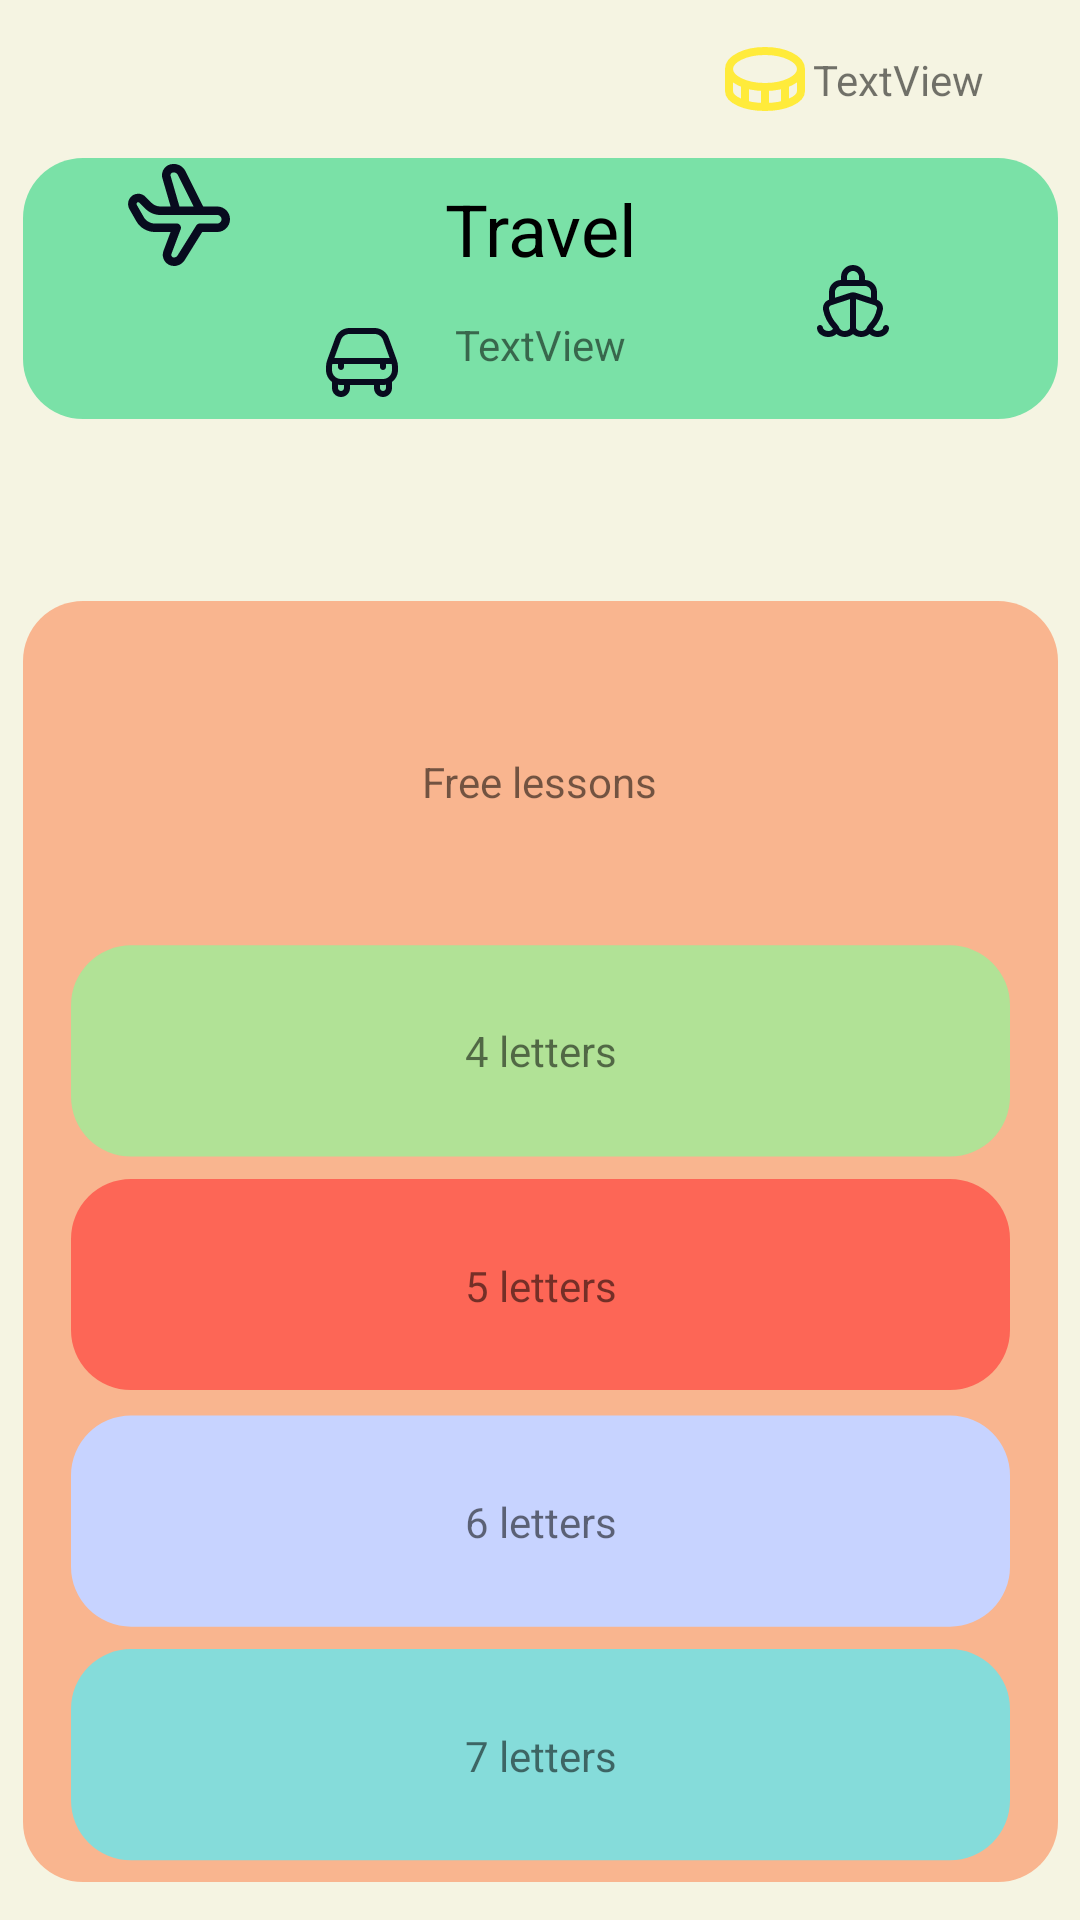

Locate icon controls on the screen. Image size 1080 x 1920, boxes as detection(x1, y1, x2, y2).
coin: detection(725, 47, 805, 111)
